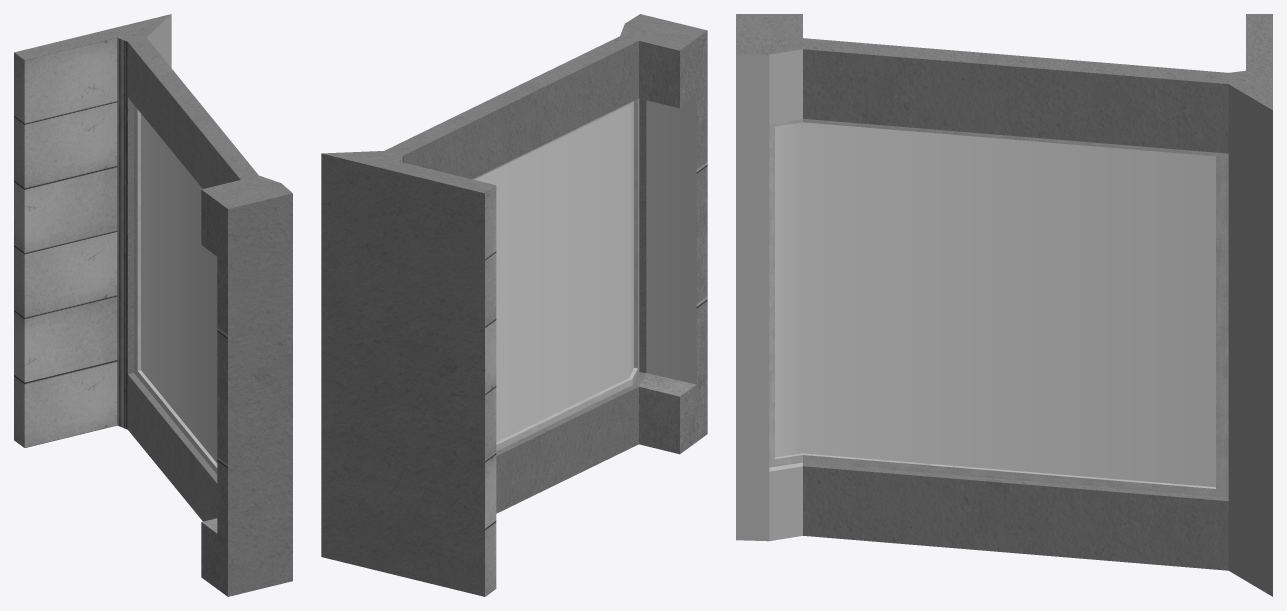
The model's file is Side_room_window_middle.fbx.
3 renders of one model, left to right at view 1: azimuth 30°, elevation 25°; view 2: azimuth 150°, elevation 25°; view 3: azimuth 270°, elevation 25°, orthographic. The views are drawn at different scales.
Parts seen in each view (by area): view 1: Side_room_window_middle, glass_001; view 2: Side_room_window_middle, glass_001; view 3: glass_001, Side_room_window_middle.
Boxes of the visible parts, left/top/right/bottom form: Side_room_window_middle: left=14, top=14, right=292, bottom=596; glass_001: left=141, top=114, right=217, bottom=462; Side_room_window_middle: left=321, top=14, right=707, bottom=596; glass_001: left=475, top=101, right=633, bottom=442; glass_001: left=775, top=122, right=1215, bottom=487; Side_room_window_middle: left=736, top=14, right=1272, bottom=596.
Size of the model in its own units: 1.7 by 4 by 4.
